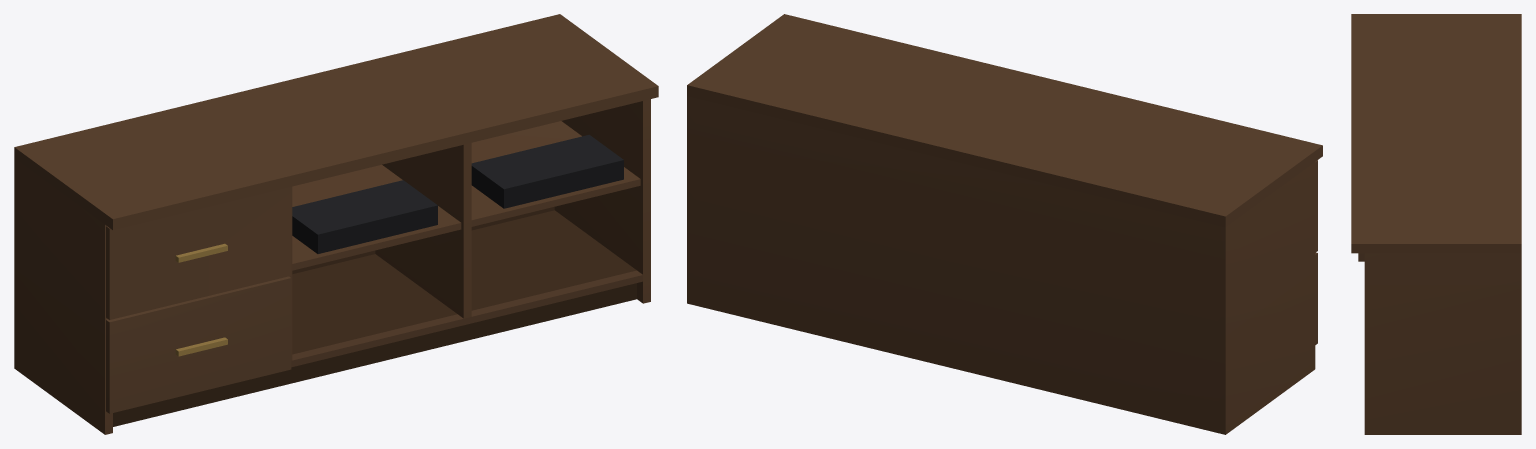
Rendered from cabinet.media.walnut.glb.
The picture shows the model from 3 angles, left to right: view 1: azimuth 30°, elevation 25°; view 2: azimuth 150°, elevation 25°; view 3: azimuth 270°, elevation 25°; orthographic projection. The views are drawn at different scales.
Visible parts, largest first — view 1: cabinet_media_walnut; view 2: cabinet_media_walnut; view 3: cabinet_media_walnut.
Part boxes in pixels (x1=…): cabinet_media_walnut: x1=14, y1=14, x2=658, y2=434; cabinet_media_walnut: x1=687, y1=14, x2=1322, y2=434; cabinet_media_walnut: x1=1351, y1=14, x2=1521, y2=434.
Size of what is drawn, in the model's own units: 1.55 by 0.6 by 0.484.
